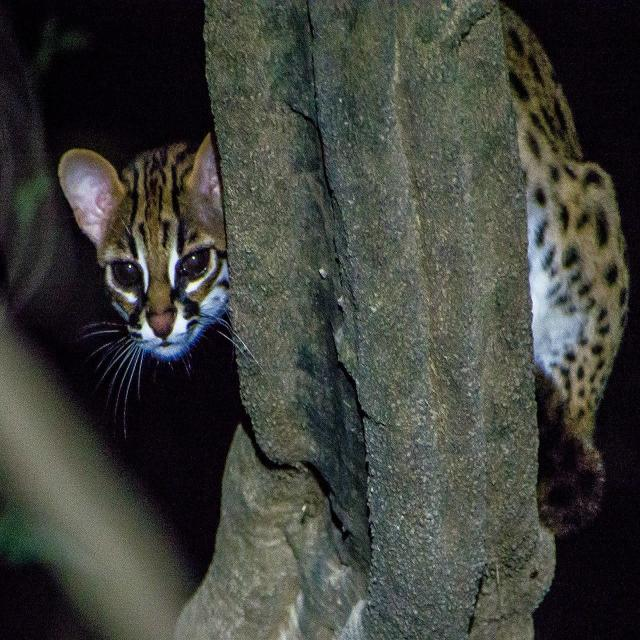leopard: (52, 113, 249, 390), (516, 31, 630, 473)
